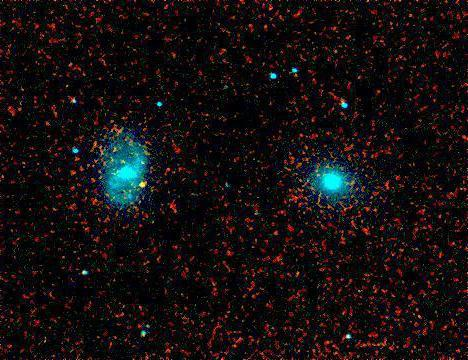star: (128, 170, 158, 200)
